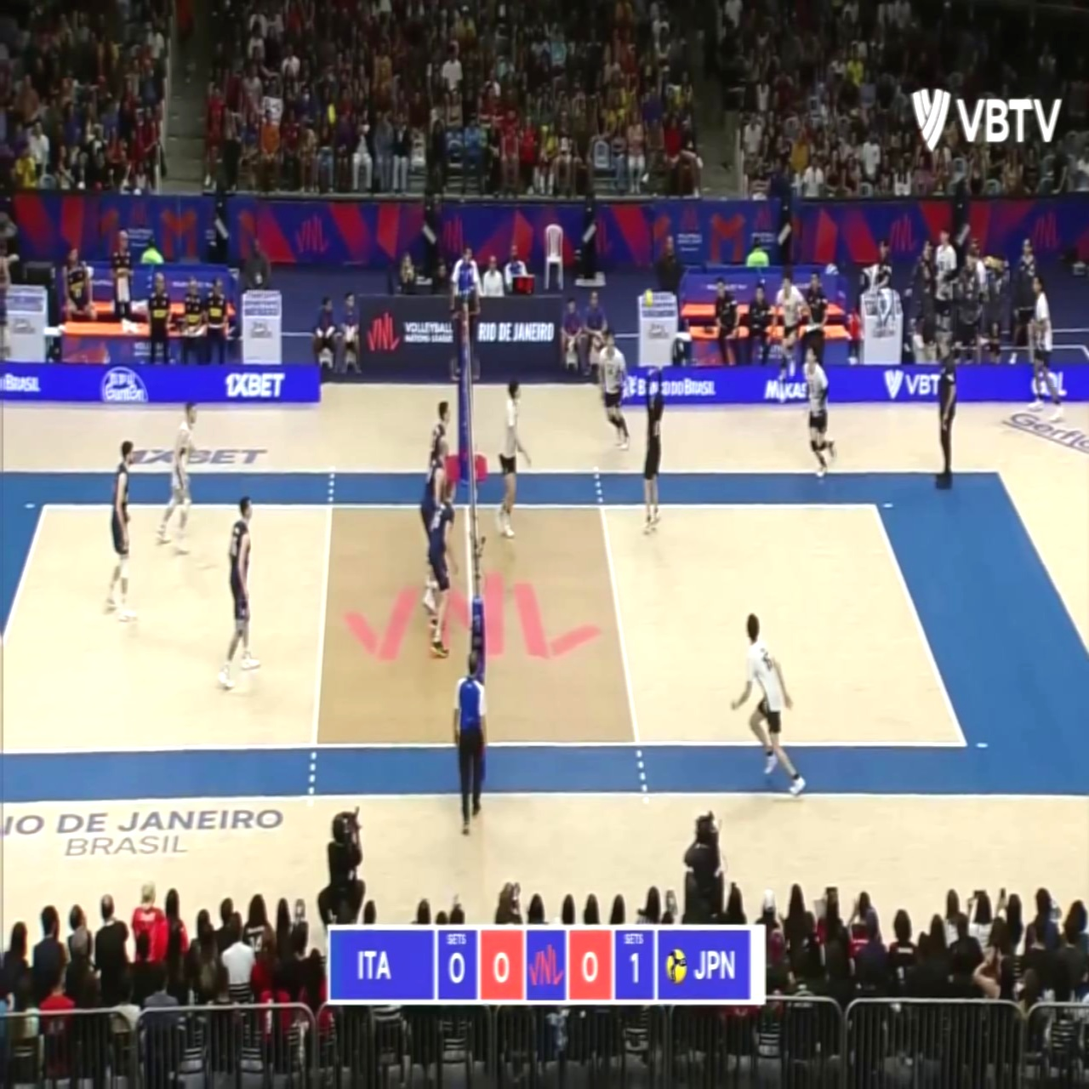ball: (644, 289, 652, 306)
